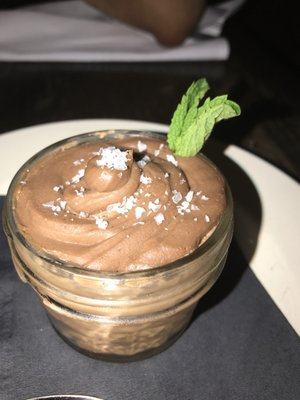sushi: (5, 135, 238, 362)
